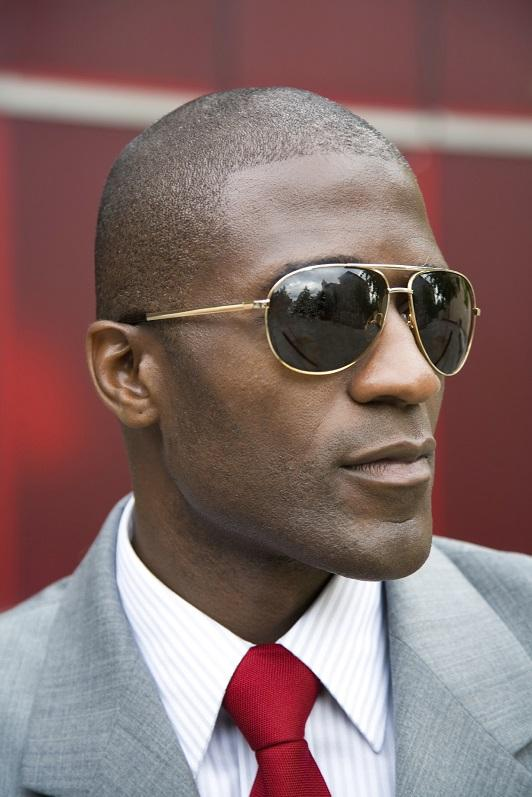sunglasses: (246, 248, 502, 398)
